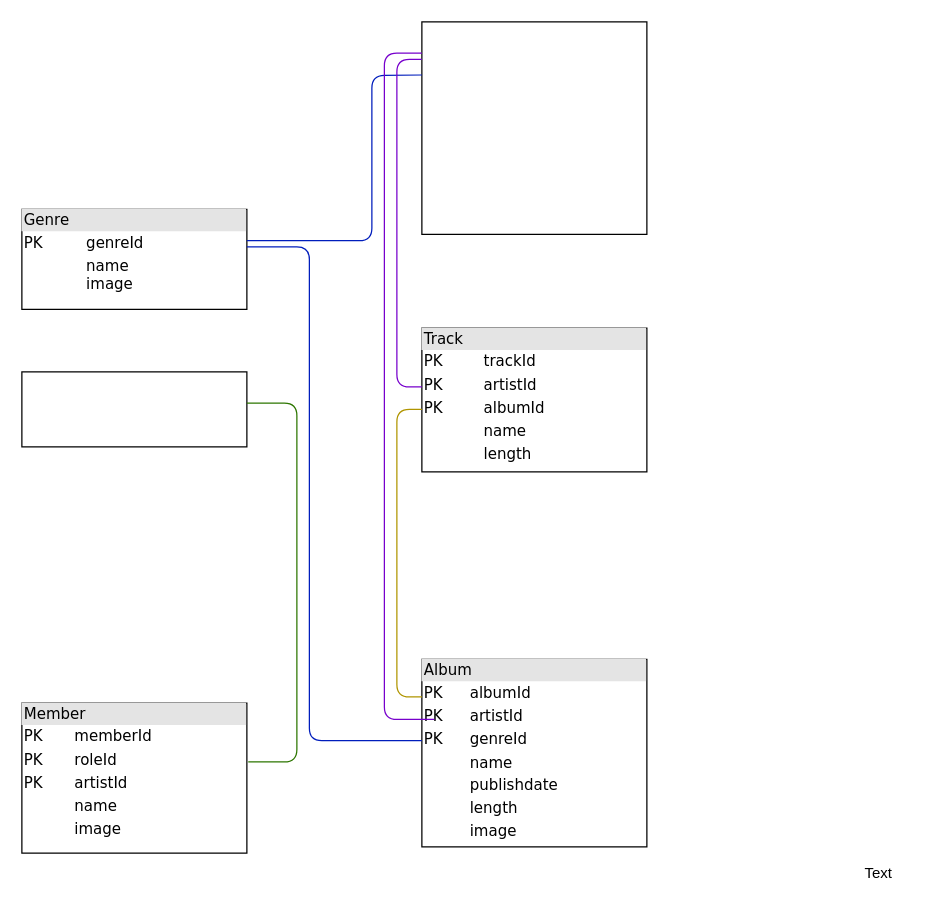
The diagram is 925 pixels wide and 908 high, and some of its shapes have lost their labels. The centre of each missing label's shape, as x and y in pixels:
"Artist PK artistId PK genreId name website info country logo image" goes at (x=534, y=127).
"Role PK roleId name" goes at (x=134, y=409).
